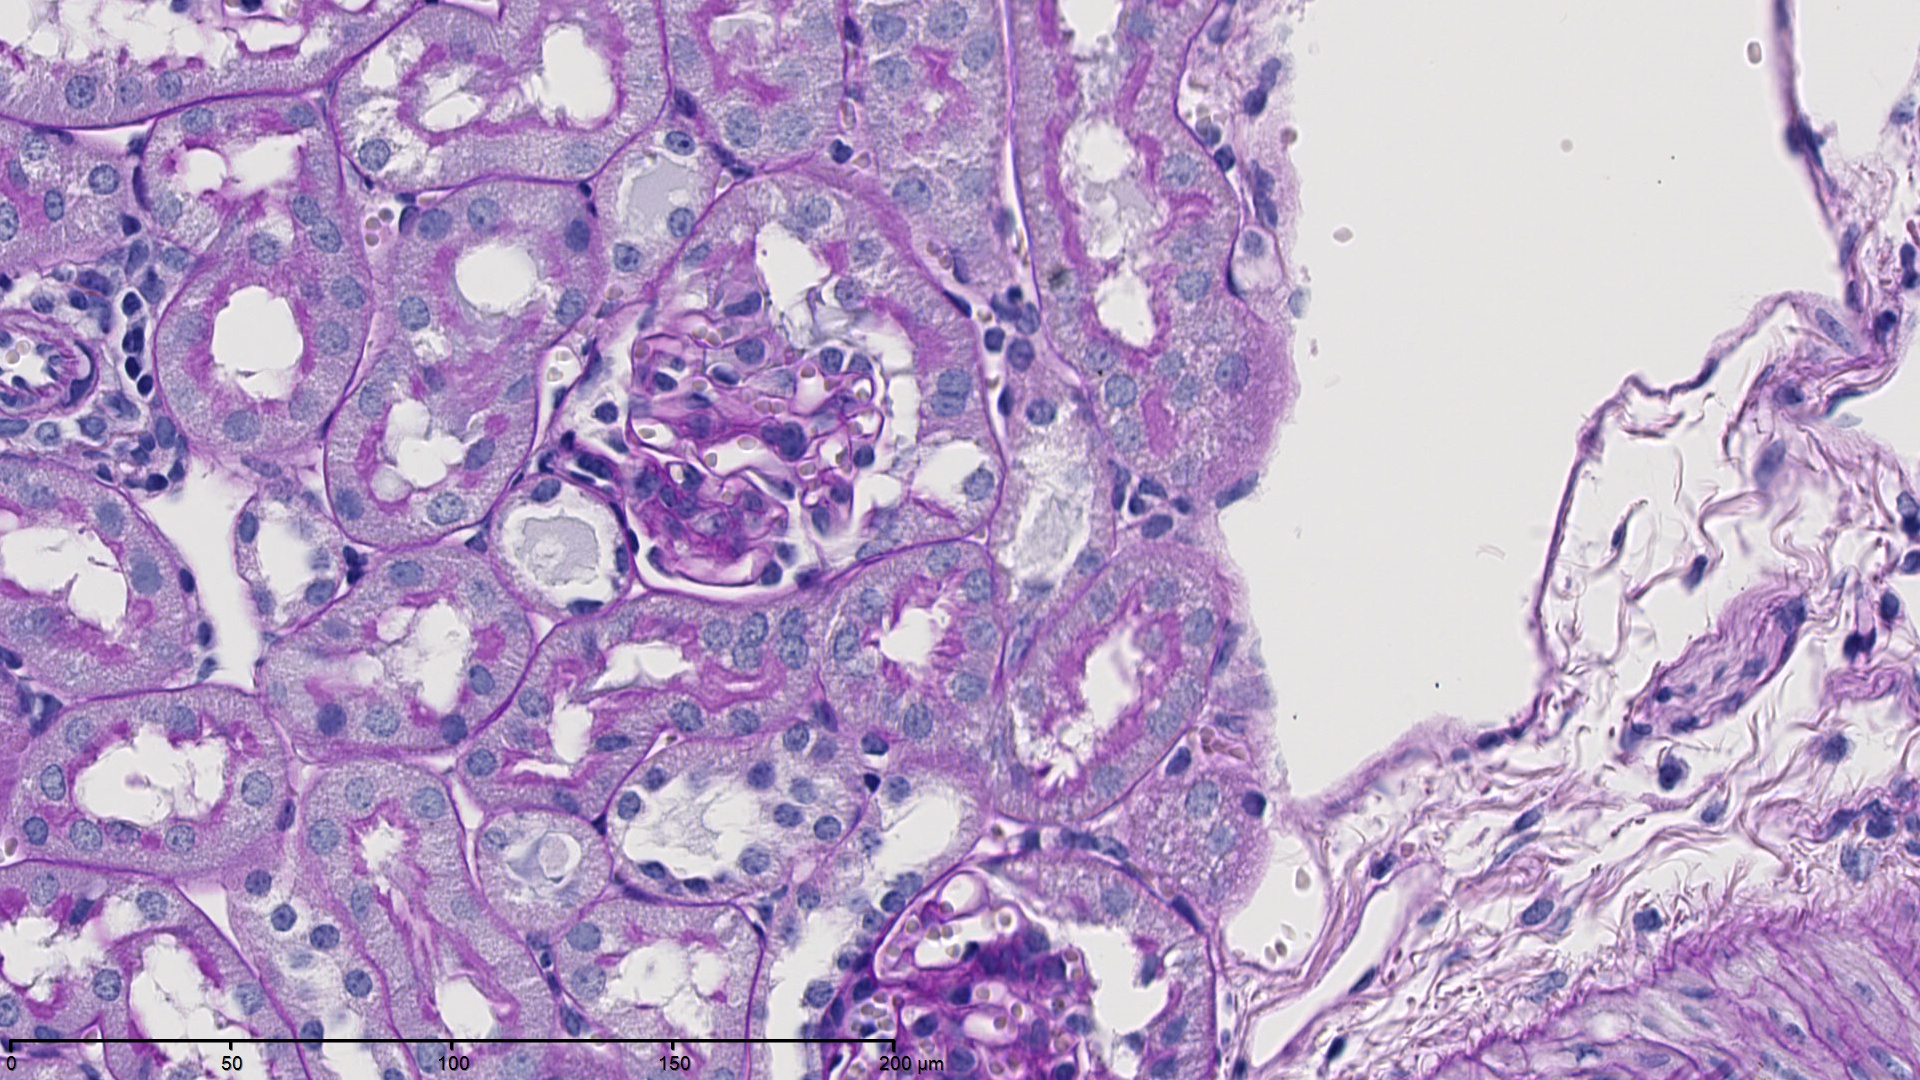Glomeruli: (549, 256, 898, 595), (798, 860, 1121, 1080)
